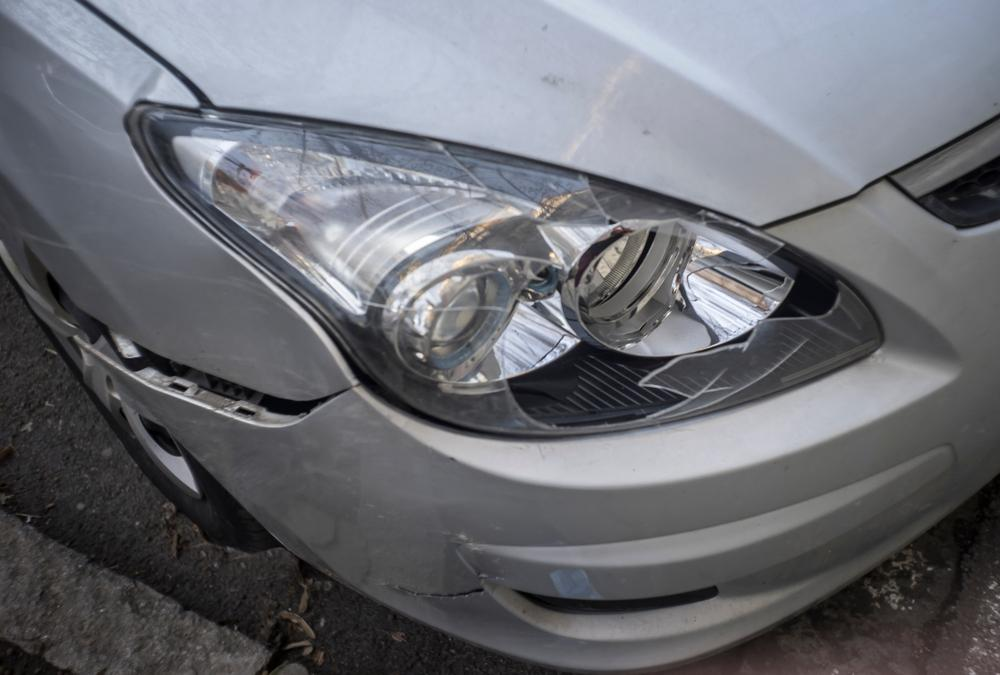crack: (379, 570, 503, 598)
lamp broken: (131, 101, 884, 438)
